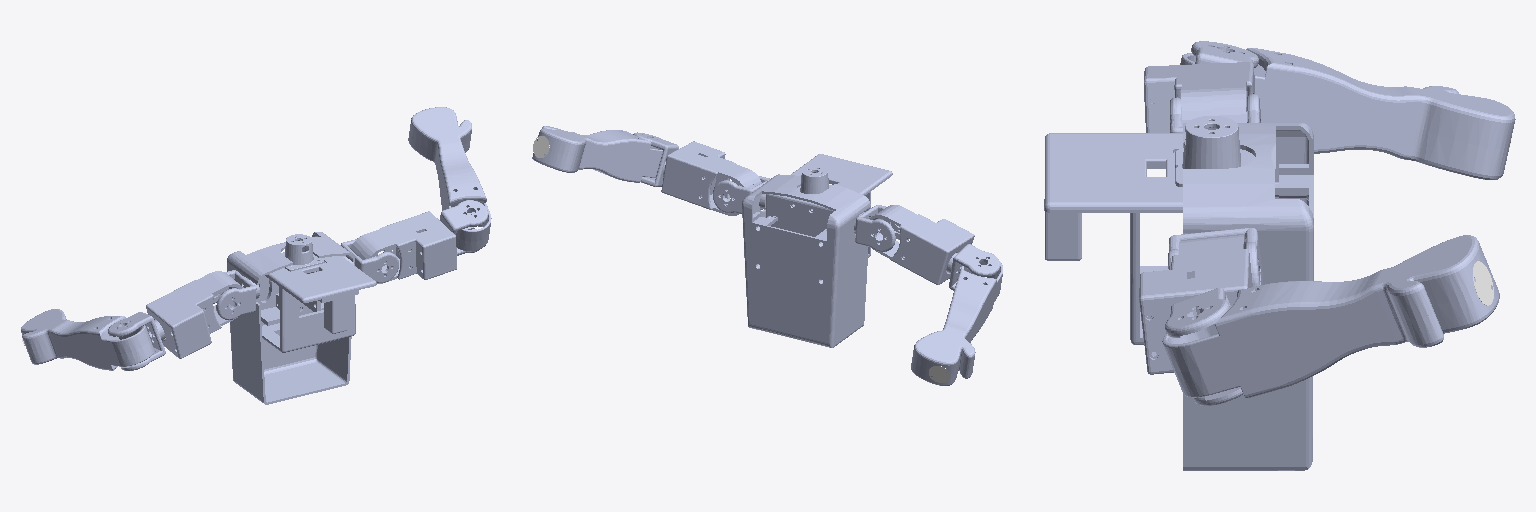
URDF robot description (flov2tag):
<?xml version="1.0" encoding="utf-8"?>
<!-- This URDF was automatically created by SolidWorks to URDF Exporter! Originally created by [author] ([email redacted]) 
     Commit Version: 1.6.0-4-g7f85cfe  Build Version: 1.6.7995.38578
     For more information, please see http://wiki.ros.org/sw_urdf_exporter -->
<robot
  name="flov2tag">
  
  <link name="world"/>
  
  <joint name="base_joint" type="fixed">
	<parent link="world"/>
	<child link="base_link"/>
	<origin rpy="0 0 0" xyz="0.0 0.0 0.1"/>
  </joint>  
  
  
  
  
  <link
    name="base_link">
    <inertial>
      <origin
        xyz="7.53347513647862E-05 -0.0517564322706769 0.103083105603625"
        rpy="0 0 0" />
      <mass
        value="0.411096920186486" />
      <inertia
        ixx="0.000777346761704768"
        ixy="1.72546357053517E-06"
        ixz="3.18573945326137E-07"
        iyy="0.000809189457749476"
        iyz="4.70818433093878E-05"
        izz="0.000628127608082685" />
    </inertial>
    <visual>
      <origin
        xyz="0 0 0"
        rpy="0 0 0" />
      <geometry>
        <mesh
          filename="package://flov2tag/meshes/base_link.STL" />
      </geometry>
      <material
        name="">
        <color
          rgba="0.792156862745098 0.819607843137255 0.933333333333333 1" />
      </material>
    </visual>
    <collision>
      <origin
        xyz="0 0 0"
        rpy="0 0 0" />
      <geometry>
        <mesh
          filename="package://flov2tag/meshes/base_link.STL" />
      </geometry>
    </collision>
  </link>
  <link
    name="L1">
    <inertial>
      <origin
        xyz="1.48905722474613E-09 -1.45844988863608E-09 -0.0155738461318574"
        rpy="0 0 0" />
      <mass
        value="0.0215352043212417" />
      <inertia
        ixx="6.43260429128133E-06"
        ixy="-1.64918315675543E-11"
        ixz="1.80617855631626E-13"
        iyy="1.14424316265306E-05"
        iyz="-1.4977169211401E-13"
        izz="8.50517912691032E-06" />
    </inertial>
    <visual>
      <origin
        xyz="0 0 0"
        rpy="0 0 0" />
      <geometry>
        <mesh
          filename="package://flov2tag/meshes/L1.STL" />
      </geometry>
      <material
        name="">
        <color
          rgba="0.792156862745098 0.819607843137255 0.933333333333333 1" />
      </material>
    </visual>
    <collision>
      <origin
        xyz="0 0 0"
        rpy="0 0 0" />
      <geometry>
        <mesh
          filename="package://flov2tag/meshes/L1.STL" />
      </geometry>
    </collision>
  </link>
  <joint
    name="l1"
    type="revolute">
    <origin
      xyz="-0.093804 -0.050968 0.1305"
      rpy="-1.5732 -0.04937 1.5699" />
    <parent
      link="base_link" />
    <child
      link="L1" />
    <axis
      xyz="0 0 -1" />
    <limit
      lower="-3.14"
      upper="3.14"
      effort="100"
      velocity="1" />
  </joint>
  <link
    name="L2">
    <inertial>
      <origin
        xyz="0.0370794722770472 6.01619796232744E-05 -0.00561150495180869"
        rpy="0 0 0" />
      <mass
        value="0.14200428130742" />
      <inertia
        ixx="3.19807041640019E-05"
        ixy="-4.35443153481225E-08"
        ixz="2.24405152482658E-06"
        iyy="6.16420914340457E-05"
        iyz="9.75980531415953E-10"
        izz="6.84742357959681E-05" />
    </inertial>
    <visual>
      <origin
        xyz="0 0 0"
        rpy="0 0 0" />
      <geometry>
        <mesh
          filename="package://flov2tag/meshes/L2.STL" />
      </geometry>
      <material
        name="">
        <color
          rgba="0.792156862745098 0.819607843137255 0.933333333333333 1" />
      </material>
    </visual>
    <collision>
      <origin
        xyz="0 0 0"
        rpy="0 0 0" />
      <geometry>
        <mesh
          filename="package://flov2tag/meshes/L2.STL" />
      </geometry>
    </collision>
  </link>
  <joint
    name="l2"
    type="revolute">
    <origin
      xyz="0 0 0"
      rpy="1.57079632679491 -1.30823648462815 1.57079632679489" />
    <parent
      link="L1" />
    <child
      link="L2" />
    <axis
      xyz="0 0 -1" />
    <limit
      lower="-3.14"
      upper="3.14"
      effort="100"
      velocity="1" />
  </joint>
  <link
    name="L3">
    <inertial>
      <origin
        xyz="-6.85686452062129E-10 -1.18321497044604E-09 -0.0155738461320077"
        rpy="1.57079632679491 0 0" />
      <mass
        value="0.0215352058948494" />
      <inertia
        ixx="6.43260450990738E-06"
        ixy="-1.66741513524277E-11"
        ixz="-1.99406870351107E-13"
        iyy="1.14424319738705E-05"
        iyz="-5.43220634835429E-14"
        izz="8.50517954548888E-06" />
    </inertial>
    <visual>
      <origin
        xyz="0 0 0"
        rpy="0 0 0" />
      <geometry>
        <mesh
          filename="package://flov2tag/meshes/L3.STL" />
      </geometry>
      <material
        name="">
        <color
          rgba="0.792156862745098 0.819607843137255 0.933333333333333 1" />
      </material>
    </visual>
    <collision>
      <origin
        xyz="0 0 0"
        rpy="0 0 0" />
      <geometry>
        <mesh
          filename="package://flov2tag/meshes/L3.STL" />
      </geometry>
    </collision>
  </link>
  <joint
    name="l3"
    type="revolute">
    <origin
      xyz="0.1158 0 -0.00119999999999776"
      rpy="-1.5707963267949 0.26114885650053 -1.57079632679489" />
    <parent
      link="L2" />
    <child
      link="L3" />
    <axis
      xyz="0 0 -1" />
    <limit
      lower="-3.14"
      upper="3.14"
      effort="100"
      velocity="1" />
  </joint>
  <link
    name="L4">
    <inertial>
      <origin
        xyz="0.0540116223479984 -0.00058620478941096 -0.00011406572389161"
        rpy="0 0 0" />
      <mass
        value="0.123994710978818" />
      <inertia
        ixx="2.55225739121218E-05"
        ixy="5.69764188850555E-06"
        ixz="1.26677524651344E-09"
        iyy="0.000227685871332109"
        iyz="7.44244239048614E-10"
        izz="0.000244795391460618" />
    </inertial>
    <visual>
      <origin
        xyz="0 0 0"
        rpy="0 0 0" />
      <geometry>
        <mesh
          filename="package://flov2tag/meshes/L4.STL" />
      </geometry>
      <material
        name="">
        <color
          rgba="0.792156862745098 0.819607843137255 0.933333333333333 1" />
      </material>
    </visual>
    <collision>
      <origin
        xyz="0 0 0"
        rpy="0 0 0" />
      <geometry>
        <mesh
          filename="package://flov2tag/meshes/L4.STL" />
      </geometry>
    </collision>
  </link>
  <joint
    name="l4"
    type="revolute">
    <origin
      xyz="0 0 0"
      rpy="1.5707963267949 -0.30296623022798 -1.5707963267949" />
    <parent
      link="L3" />
    <child
      link="L4" />
    <axis
      xyz="0 0 1" />
    <limit
      lower="-3.14"
      upper="3.14"
      effort="100"
      velocity="1" />
  </joint>
  <link
    name="LT">
    <inertial>
      <origin
        xyz="-2.1094237467878E-15 3.66373598126302E-15 -4.99999999999251E-05"
        rpy="0 0 0" />
      <mass
        value="4.4257186507448E-05" />
      <inertia
        ixx="1.59291210005991E-09"
        ixy="4.71238898038435E-11"
        ixz="2.08733857698928E-24"
        iyy="1.565423164341E-09"
        iyz="3.43796942092352E-24"
        izz="3.1582615024234E-09" />
    </inertial>
    <visual>
      <origin
        xyz="0 0 0"
        rpy="0 0 0" />
      <geometry>
        <mesh
          filename="package://flov2tag/meshes/LT.STL" />
      </geometry>
      <material
        name="">
        <color
          rgba="1 1 1 1" />
      </material>
    </visual>
    <collision>
      <origin
        xyz="0 0 0"
        rpy="0 0 0" />
      <geometry>
        <mesh
          filename="package://flov2tag/meshes/LT.STL" />
      </geometry>
    </collision>
  </link>
  <joint
    name="lt"
    type="revolute">
    <origin
      xyz="0.16084 0 0"
      rpy="1.5708 0 1.5708" />
    <parent
      link="L4" />
    <child
      link="LT" />
    <axis
      xyz="0 0 -1" />
    <limit
      lower="-3.14"
      upper="3.14"
      effort="100"
      velocity="1" />
  </joint>
  <link
    name="R1">
    <inertial>
      <origin
        xyz="-7.3101036335288E-10 1.42214115483874E-09 -0.0155738461008337"
        rpy="0 0 0" />
      <mass
        value="0.0215352046092187" />
      <inertia
        ixx="6.43260432556565E-06"
        ixy="-1.67886054370398E-11"
        ixz="2.25506499780031E-15"
        iyy="1.14424316815474E-05"
        iyz="1.67144531263641E-13"
        izz="8.50517918879637E-06" />
    </inertial>
    <visual>
      <origin
        xyz="0 0 0"
        rpy="0 0 0" />
      <geometry>
        <mesh
          filename="package://flov2tag/meshes/R1.STL" />
      </geometry>
      <material
        name="">
        <color
          rgba="0.792156862745098 0.819607843137255 0.933333333333333 1" />
      </material>
    </visual>
    <collision>
      <origin
        xyz="0 0 0"
        rpy="0 0 0" />
      <geometry>
        <mesh
          filename="package://flov2tag/meshes/R1.STL" />
      </geometry>
    </collision>
  </link>
  <joint
    name="r1"
    type="revolute">
    <origin
      xyz="0.09279510924547 -0.0511557438776884 0.131033556238334"
      rpy="1.56837759398057 -0.109836205757756 1.5700568280532" />
    <parent
      link="base_link" />
    <child
      link="R1" />
    <axis
      xyz="0 0 -1" />
    <limit
      lower="-3.14"
      upper="3.14"
      effort="100"
      velocity="1" />
  </joint>
  <link
    name="R2">
    <inertial>
      <origin
        xyz="0.0370794698343928 6.01703938903075E-05 -0.00521151070552417"
        rpy="0 0 0" />
      <mass
        value="0.142004353704167" />
      <inertia
        ixx="3.19807296486965E-05"
        ixy="-4.35327533669279E-08"
        ixz="2.24405237078302E-06"
        iyy="6.16421075611623E-05"
        iyz="9.81607943199515E-10"
        izz="6.84742805487049E-05" />
    </inertial>
    <visual>
      <origin
        xyz="0 0 0"
        rpy="0 0 0" />
      <geometry>
        <mesh
          filename="package://flov2tag/meshes/R2.STL" />
      </geometry>
      <material
        name="">
        <color
          rgba="0.792156862745098 0.819607843137255 0.933333333333333 1" />
      </material>
    </visual>
    <collision>
      <origin
        xyz="0 0 0"
        rpy="0 0 0" />
      <geometry>
        <mesh
          filename="package://flov2tag/meshes/R2.STL" />
      </geometry>
    </collision>
  </link>
  <joint
    name="r2"
    type="revolute">
    <origin
      xyz="0 0 0"
      rpy="1.57079632679491 -1.47144508321867 1.57079632679488" />
    <parent
      link="R1" />
    <child
      link="R2" />
    <axis
      xyz="0 0 -1" />
    <limit
      lower="-3.14"
      upper="3.14"
      effort="100"
      velocity="1" />
  </joint>
  <link
    name="R3">
    <inertial>
      <origin
        xyz="2.05074301984354E-09 5.46313924654207E-10 -0.0155738455006264"
        rpy="0 0 0" />
      <mass
        value="0.0215352048399659" />
      <inertia
        ixx="6.432604168036E-06"
        ixy="-1.66648027588443E-11"
        ixz="6.81152760309558E-14"
        iyy="1.14424315919614E-05"
        iyz="-4.79486622218707E-14"
        izz="8.5051789959427E-06" />
    </inertial>
    <visual>
      <origin
        xyz="0 0 0"
        rpy="0 0 0" />
      <geometry>
        <mesh
          filename="package://flov2tag/meshes/R3.STL" />
      </geometry>
      <material
        name="">
        <color
          rgba="0.792156862745098 0.819607843137255 0.933333333333333 1" />
      </material>
    </visual>
    <collision>
      <origin
        xyz="0 0 0"
        rpy="0 0 0" />
      <geometry>
        <mesh
          filename="package://flov2tag/meshes/R3.STL" />
      </geometry>
    </collision>
  </link>
  <joint
    name="r3"
    type="revolute">
    <origin
      xyz="0.115800000000001 0 -0.000800000000004408"
      rpy="1.5707963267949 -0.26114885650053 1.5707963267949" />
    <parent
      link="R2" />
    <child
      link="R3" />
    <axis
      xyz="0 0 -1" />
    <limit
      lower="-3.14"
      upper="3.14"
      effort="100"
      velocity="1" />
  </joint>
  <link
    name="R4">
    <inertial>
      <origin
        xyz="0.0540120901541251 0.000585955138703967 0.000114212206980158"
        rpy="0 0 0" />
      <mass
        value="0.123994478571995" />
      <inertia
        ixx="2.55222563136458E-05"
        ixy="-5.697433497379E-06"
        ixz="-1.15541189210634E-09"
        iyy="0.000227685021295983"
        iyz="5.41220980799628E-10"
        izz="0.000244794757521387" />
    </inertial>
    <visual>
      <origin
        xyz="0 0 0"
        rpy="0 0 0" />
      <geometry>
        <mesh
          filename="package://flov2tag/meshes/R4.STL" />
      </geometry>
      <material
        name="">
        <color
          rgba="0.792156862745098 0.819607843137255 0.933333333333333 1" />
      </material>
    </visual>
    <collision>
      <origin
        xyz="0 0 0"
        rpy="0 0 0" />
      <geometry>
        <mesh
          filename="package://flov2tag/meshes/R4.STL" />
      </geometry>
    </collision>
  </link>
  <joint
    name="r4"
    type="revolute">
    <origin
      xyz="0 0 0"
      rpy="-1.5707963267949 -0.302966230227995 1.5707963267949" />
    <parent
      link="R3" />
    <child
      link="R4" />
    <axis
      xyz="0 0 1" />
    <limit
      lower="-3.14"
      upper="3.14"
      effort="100"
      velocity="1" />
  </joint>
  <link
    name="RT">
    <inertial>
      <origin
        xyz="-1.12505491034476E-14 -3.88578058618805E-16 -5.00000000000778E-05"
        rpy="0 0 0" />
      <mass
        value="4.4257186507449E-05" />
      <inertia
        ixx="1.59291210005995E-09"
        ixy="-4.71238898038503E-11"
        ixz="8.7605212335328E-25"
        iyy="1.56542316434104E-09"
        iyz="5.84196307615576E-24"
        izz="3.15826150242347E-09" />
    </inertial>
    <visual>
      <origin
        xyz="0 0 0"
        rpy="0 0 0" />
      <geometry>
        <mesh
          filename="package://flov2tag/meshes/RT.STL" />
      </geometry>
      <material
        name="">
        <color
          rgba="1 1 1 1" />
      </material>
    </visual>
    <collision>
      <origin
        xyz="0 0 0"
        rpy="0 0 0" />
      <geometry>
        <mesh
          filename="package://flov2tag/meshes/RT.STL" />
      </geometry>
    </collision>
  </link>
  <joint
    name="rt"
    type="revolute">
    <origin
      xyz="0.16084 0 0"
      rpy="-1.5708 0 -1.5708" />
    <parent
      link="R4" />
    <child
      link="RT" />
    <axis
      xyz="0 0 -1" />
    <limit
      lower="-3.14"
      upper="3.14"
      effort="100"
      velocity="1" />
  </joint>
  
  
  <transmission name="L1_trans">
	<type>transmission_interface/SimpleTransmission</type>
	<joint name="l1">
		<hardwareInterface>hardware_interface/PositionJointInterface</hardwareInterface>
	</joint>
	<actuator name="L1_motor">
		<hardwareInterface>hardware_interface/PositionJointInterface</hardwareInterface>
		<mechanicalReduction>1</mechanicalReduction>
	</actuator>
  </transmission>
  
  <transmission name="L2_trans">
	<type>transmission_interface/SimpleTransmission</type>
	<joint name="l2">
		<hardwareInterface>hardware_interface/PositionJointInterface</hardwareInterface>
	</joint>
	<actuator name="L2_motor">
		<hardwareInterface>hardware_interface/PositionJointInterface</hardwareInterface>
		<mechanicalReduction>1</mechanicalReduction>
	</actuator>
  </transmission>

  <transmission name="L3_trans">
	<type>transmission_interface/SimpleTransmission</type>
	<joint name="l3">
		<hardwareInterface>hardware_interface/PositionJointInterface</hardwareInterface>
	</joint>
	<actuator name="L3_motor">
		<hardwareInterface>hardware_interface/PositionJointInterface</hardwareInterface>
		<mechanicalReduction>1</mechanicalReduction>
	</actuator>
  </transmission>  
  
  <transmission name="L4_trans">
	<type>transmission_interface/SimpleTransmission</type>
	<joint name="l4">
		<hardwareInterface>hardware_interface/PositionJointInterface</hardwareInterface>
	</joint>
	<actuator name="L4_motor">
		<hardwareInterface>hardware_interface/PositionJointInterface</hardwareInterface>
		<mechanicalReduction>1</mechanicalReduction>
	</actuator>
  </transmission>  
  
  <transmission name="R1_trans">
	<type>transmission_interface/SimpleTransmission</type>
	<joint name="r1">
		<hardwareInterface>hardware_interface/PositionJointInterface</hardwareInterface>
	</joint>
	<actuator name="R1_motor">
		<hardwareInterface>hardware_interface/PositionJointInterface</hardwareInterface>
		<mechanicalReduction>1</mechanicalReduction>
	</actuator>
  </transmission>  
  
  <transmission name="R2_trans">
	<type>transmission_interface/SimpleTransmission</type>
	<joint name="r2">
		<hardwareInterface>hardware_interface/PositionJointInterface</hardwareInterface>
	</joint>
	<actuator name="R2_motor">
		<hardwareInterface>hardware_interface/PositionJointInterface</hardwareInterface>
		<mechanicalReduction>1</mechanicalReduction>
	</actuator>
  </transmission>  


  <transmission name="R3_trans">
	<type>transmission_interface/SimpleTransmission</type>
	<joint name="r3">
		<hardwareInterface>hardware_interface/PositionJointInterface</hardwareInterface>
	</joint>
	<actuator name="R3_motor">
		<hardwareInterface>hardware_interface/PositionJointInterface</hardwareInterface>
		<mechanicalReduction>1</mechanicalReduction>
	</actuator>
  </transmission>


  <transmission name="R4_trans">
	<type>transmission_interface/SimpleTransmission</type>
	<joint name="r4">
		<hardwareInterface>hardware_interface/PositionJointInterface</hardwareInterface>
	</joint>
	<actuator name="R4_motor">
		<hardwareInterface>hardware_interface/PositionJointInterface</hardwareInterface>
		<mechanicalReduction>1</mechanicalReduction>
	</actuator>
  </transmission>
  
  
  <transmission name="RT_trans">
	<type>transmission_interface/SimpleTransmission</type>
	<joint name="rt">
		<hardwareInterface>hardware_interface/PositionJointInterface</hardwareInterface>
	</joint>
	<actuator name="RT_motor">
		<hardwareInterface>hardware_interface/PositionJointInterface</hardwareInterface>
		<mechanicalReduction>1</mechanicalReduction>
	</actuator>
  </transmission>
  
  <transmission name="LT_trans">
	<type>transmission_interface/SimpleTransmission</type>
	<joint name="lt">
		<hardwareInterface>hardware_interface/PositionJointInterface</hardwareInterface>
	</joint>
	<actuator name="LT_motor">
		<hardwareInterface>hardware_interface/PositionJointInterface</hardwareInterface>
		<mechanicalReduction>1</mechanicalReduction>
	</actuator>
  </transmission>

  <gazebo>
	<plugin name="control" filename="libgazebo_ros_control.so">
		<robotNamespace>/</robotNamespace>
	</plugin>
  </gazebo>
  
  
  <gazebo reference="L1">
	<selfCollide>true</selfCollide>
  </gazebo>

  <gazebo reference="L2">
	<selfCollide>true</selfCollide>
  </gazebo>
  
  <gazebo reference="L3">
	<selfCollide>true</selfCollide>
  </gazebo>
  
  <gazebo reference="L4">
	<selfCollide>true</selfCollide>
  </gazebo>
  
  <gazebo reference="R1">
	<selfCollide>true</selfCollide>
  </gazebo>
  
  <gazebo reference="R2">
	<selfCollide>true</selfCollide>
  </gazebo>
  
  <gazebo reference="R3">
	<selfCollide>true</selfCollide>
  </gazebo>
  
  <gazebo reference="R4">
	<selfCollide>true</selfCollide>
  </gazebo>
  
  <gazebo reference="RT">
	<selfCollide>true</selfCollide>
  </gazebo>
  
  <gazebo reference="LT">
	<selfCollide>true</selfCollide>
  </gazebo>
  
</robot>

--- Render facts (derived) ---
3 views of the same robot in one strip: view 1: azimuth 30°, elevation 25°; view 2: azimuth 150°, elevation 25°; view 3: azimuth 270°, elevation 25° (orthographic).
Model flov2tag with 12 links and 11 joints (10 revolute, 1 fixed), rooted at world, posed all joints at 0.
Links seen in each view (by area): view 1: base_link, L4, R4, R2, L2, L1, L3, R3, R1; view 2: base_link, L4, R4, L2, R2, L1, L3, R1, R3; view 3: base_link, R4, L4, R2, L2, R3, R1, L3, L1, RT.
Boxes of the visible links, box(x1,y1,x2,y2) form: base_link: box(227, 232, 376, 404); L4: box(21, 309, 153, 370); R4: box(408, 107, 491, 250); R2: box(350, 211, 456, 283); L2: box(146, 271, 243, 358); L1: box(213, 270, 259, 319); L3: box(108, 312, 165, 370); R3: box(440, 200, 487, 255); R1: box(341, 236, 398, 282); base_link: box(742, 154, 892, 347); L4: box(911, 262, 1002, 385); R4: box(532, 126, 662, 182); L2: box(869, 205, 974, 284); R2: box(661, 141, 761, 215); L1: box(854, 205, 899, 251); L3: box(946, 244, 999, 290); R1: box(713, 176, 769, 213); R3: box(633, 132, 678, 186); base_link: box(1044, 116, 1313, 470); R4: box(1162, 235, 1499, 397); L4: box(1180, 48, 1515, 179); R2: box(1139, 235, 1252, 374); L2: box(1144, 62, 1254, 132); R3: box(1165, 288, 1242, 405); R1: box(1168, 228, 1262, 286); L3: box(1191, 41, 1258, 67); L1: box(1170, 94, 1260, 132); RT: box(1473, 261, 1493, 305).
Bounding box of the posed robot: 0.5406 × 0.247 × 0.2184 m (x, y, z).
Meshes: 11 distinct files referenced, 11 mesh visuals loaded (11 binary STL).